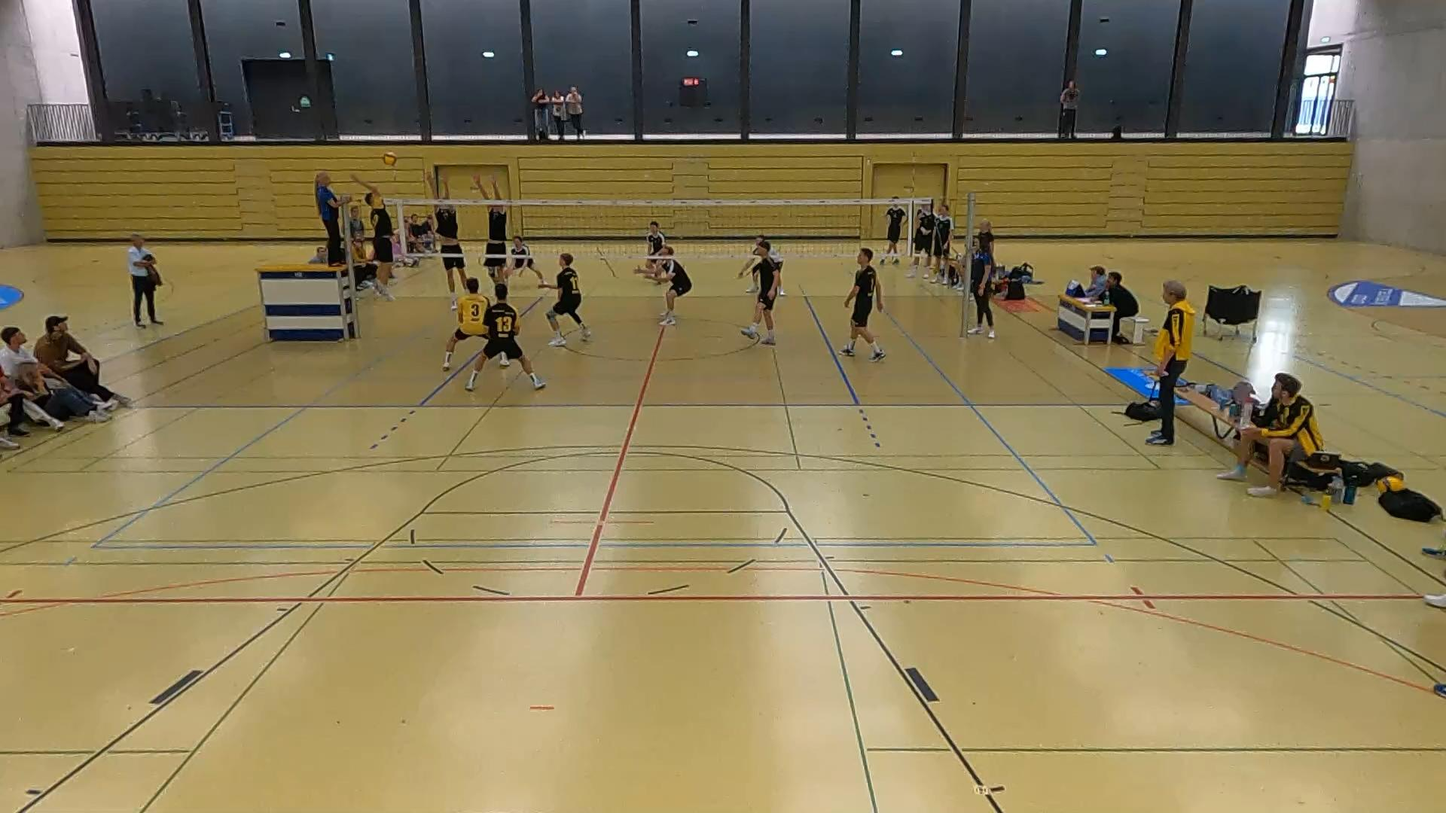Attack: (346, 171, 407, 314)
Block: (425, 165, 474, 321), (468, 167, 515, 296)
Player: (465, 284, 545, 391), (840, 247, 884, 361), (539, 253, 591, 346), (740, 240, 781, 345), (443, 279, 490, 370), (656, 245, 691, 325), (496, 236, 545, 286), (644, 221, 666, 270), (740, 257, 759, 292)
ball: (380, 149, 398, 167)
